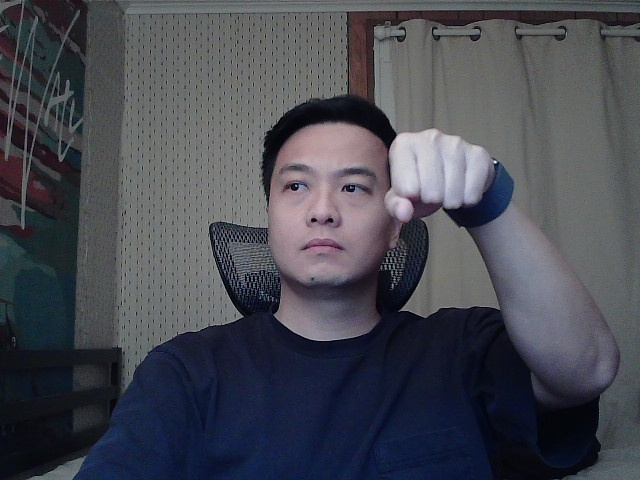Yes: (353, 108, 530, 247)
